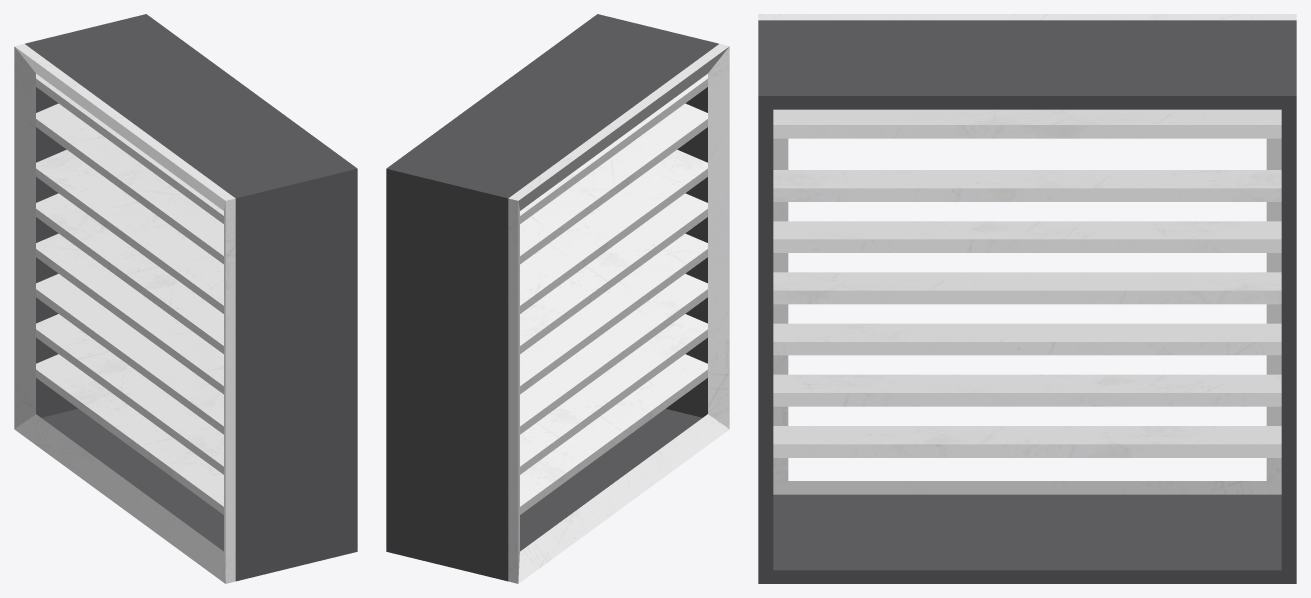
File: OLD_VENT.obj
3 views of the same model, side by side, from view 1: azimuth 30°, elevation 25°; view 2: azimuth 150°, elevation 25°; view 3: azimuth 270°, elevation 25° (orthographic). The views are drawn at different scales.
Parts seen in each view (by area): view 1: Part15, Part4, Part1, Part5, Part9, Wedge2, Part10, Part12, Part8, Part14, Part11, Part13 (+7 smaller); view 2: Part2, Part6, Part1, Part5, Part9, Wedge3, Part10, Part12, Part8, Part14, Part11, Part13 (+7 smaller); view 3: Part1, Part16, Part3, Part11, Part12, Part13, Part5, Part9, Part10, Part14, Part8, Part2 (+5 smaller).
Boxes of the visible parts, x1,y1,x2,y2 form: Part15: [286, 179, 357, 558]; Part4: [230, 182, 286, 581]; Part1: [75, 14, 357, 196]; Part5: [30, 35, 280, 193]; Part9: [36, 149, 223, 313]; Wedge2: [14, 44, 35, 428]; Part10: [36, 193, 223, 353]; Part12: [36, 273, 223, 434]; Part8: [36, 103, 223, 264]; Part14: [36, 354, 223, 514]; Part11: [36, 233, 223, 394]; Part13: [36, 314, 223, 474]; Part2: [386, 179, 457, 558]; Part6: [457, 182, 513, 581]; Part1: [386, 14, 668, 196]; Part5: [463, 35, 713, 193]; Part9: [520, 149, 707, 313]; Wedge3: [708, 44, 729, 428]; Part10: [520, 193, 707, 353]; Part12: [520, 273, 707, 434]; Part8: [520, 103, 707, 264]; Part14: [520, 354, 707, 514]; Part11: [520, 233, 707, 394]; Part13: [520, 314, 707, 474]; Part1: [758, 52, 1296, 109]; Part16: [758, 526, 1296, 583]; Part3: [773, 494, 1281, 526]; Part11: [773, 272, 1281, 304]; Part12: [773, 323, 1281, 355]; Part13: [773, 374, 1281, 406]; Part5: [773, 20, 1281, 51]; Part9: [773, 170, 1281, 201]; Part10: [773, 221, 1281, 252]; Part14: [773, 426, 1281, 457]; Part8: [773, 109, 1281, 138]; Part2: [1281, 109, 1296, 570].
Size of the model in its own units: 3.25 by 9 by 9.
